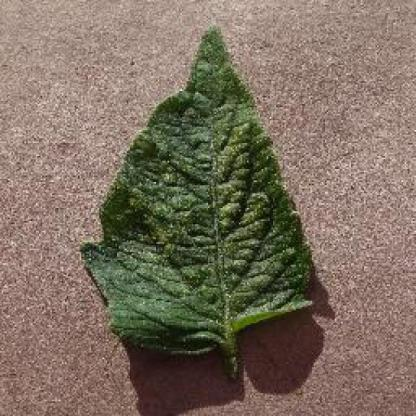Strawberry_Blossom_Blight: (220, 179, 272, 229), (198, 96, 250, 146), (139, 177, 196, 219), (128, 253, 180, 294), (229, 288, 274, 318)
